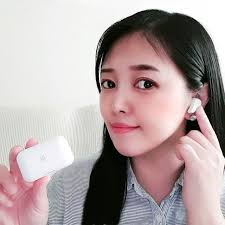earphone: (185, 83, 211, 119)
